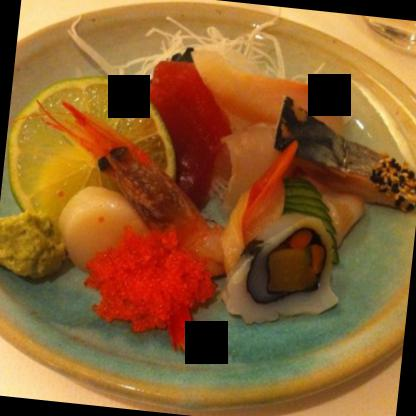shrimp: (27, 101, 241, 280)
